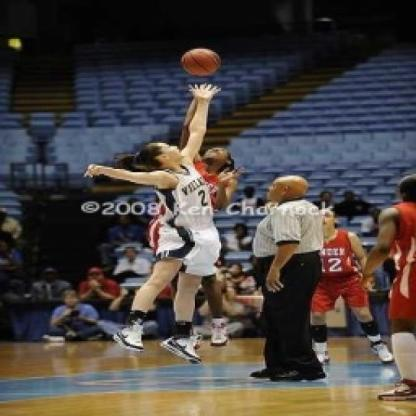basketball: (179, 45, 223, 84)
